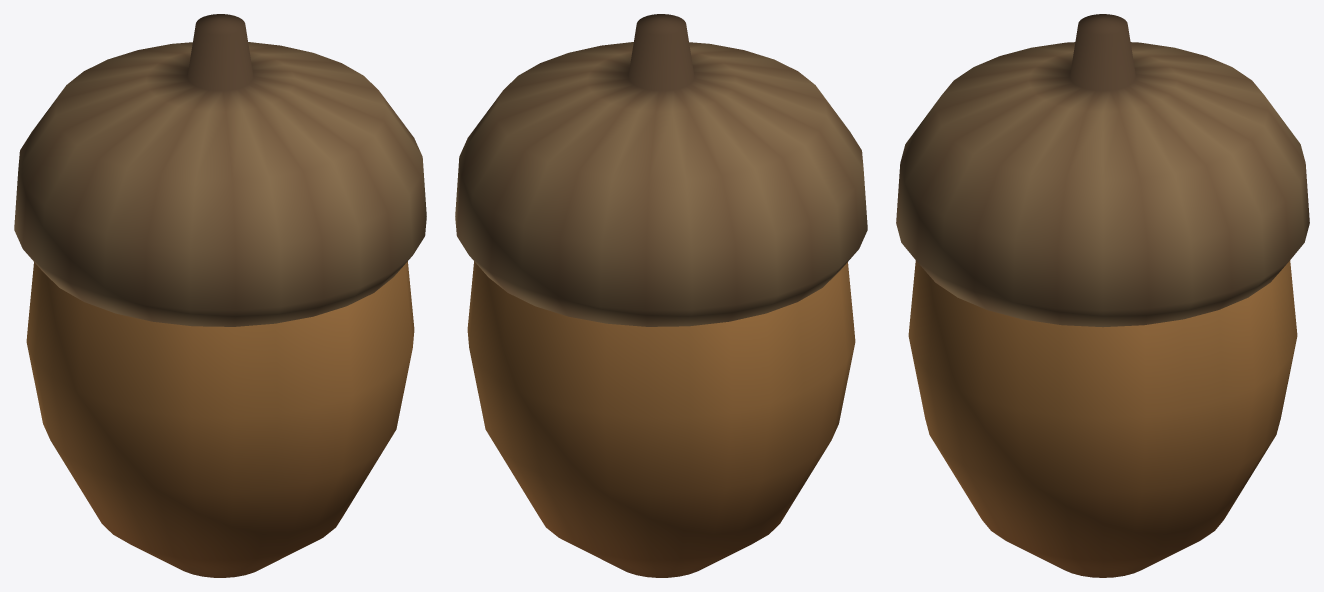
The model's file is Acorn.fbx.
3 renders of one model, left to right at view 1: azimuth 30°, elevation 25°; view 2: azimuth 150°, elevation 25°; view 3: azimuth 270°, elevation 25°, orthographic.
Parts seen in each view (by area): view 1: Acorn; view 2: Acorn; view 3: Acorn.
Part boxes in pixels (x1,y1,x2,y2): Acorn: [14, 14, 426, 577]; Acorn: [455, 14, 867, 577]; Acorn: [896, 14, 1309, 577].
Size of the model in its own units: 1 by 1.46 by 1.
